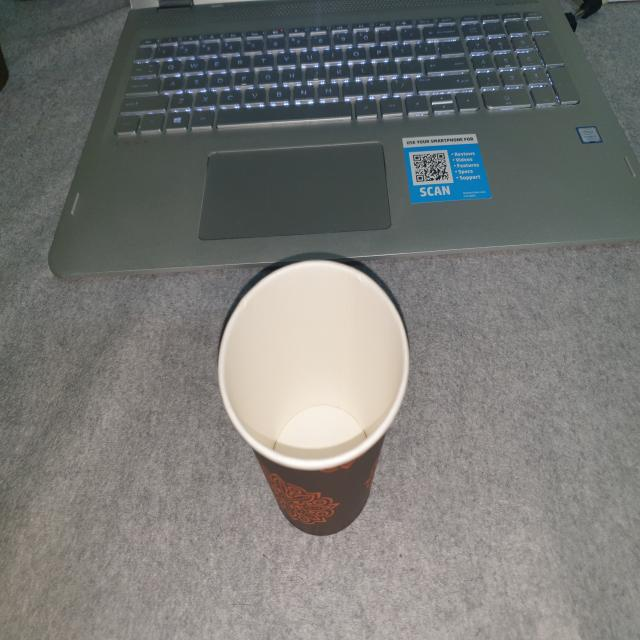cups: (216, 248, 420, 546)
